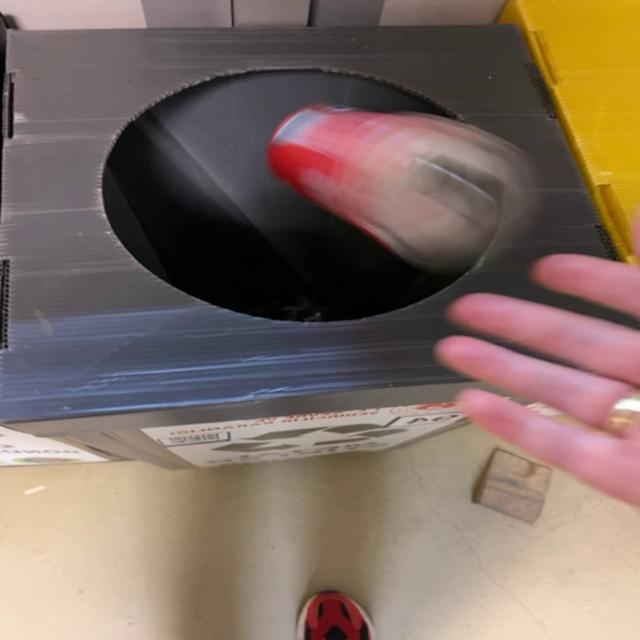bin: (1, 24, 636, 469)
metal: (268, 103, 537, 275)
